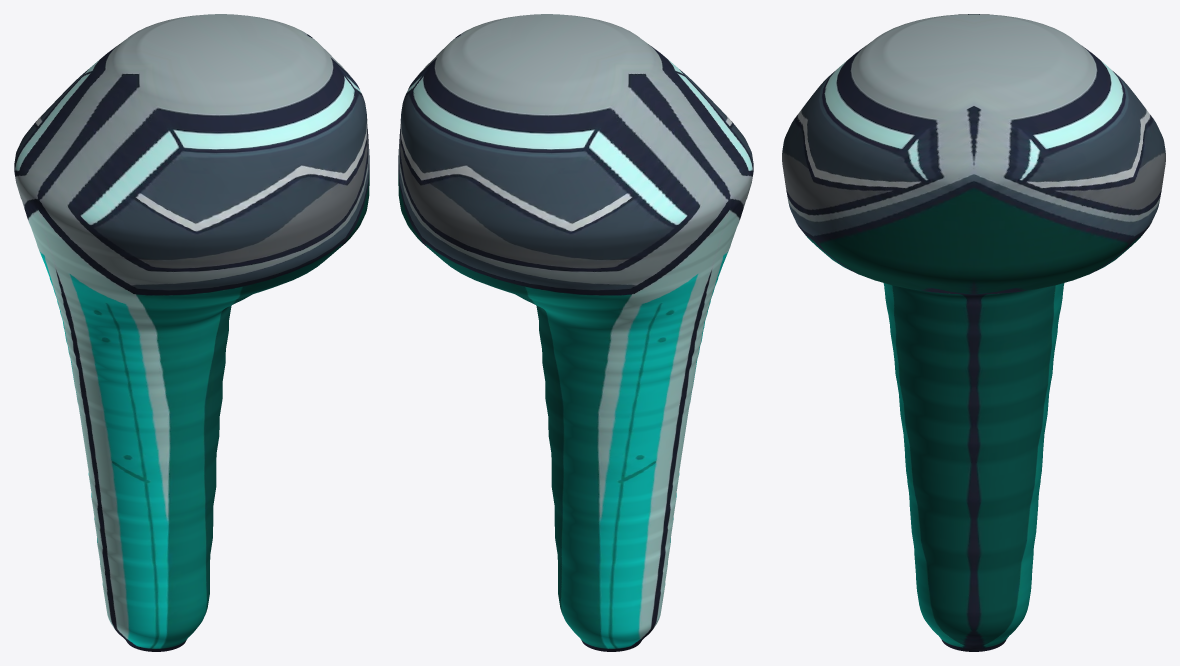
Rendered from hex_pylon.glb.
3 renders of one model, left to right at view 1: azimuth 30°, elevation 25°; view 2: azimuth 150°, elevation 25°; view 3: azimuth 270°, elevation 25°, orthographic. The views are drawn at different scales.
Visible parts, largest first — view 1: hex_pylon; view 2: hex_pylon; view 3: hex_pylon.
Part boxes in pixels (left/top/right/bottom): hex_pylon: left=14, top=14, right=369, bottom=651; hex_pylon: left=398, top=14, right=753, bottom=651; hex_pylon: left=782, top=14, right=1165, bottom=651.
Size of the model in its own units: 0.9965 by 1.78 by 0.9965.
Materials: 1 (1 with a texture image).
